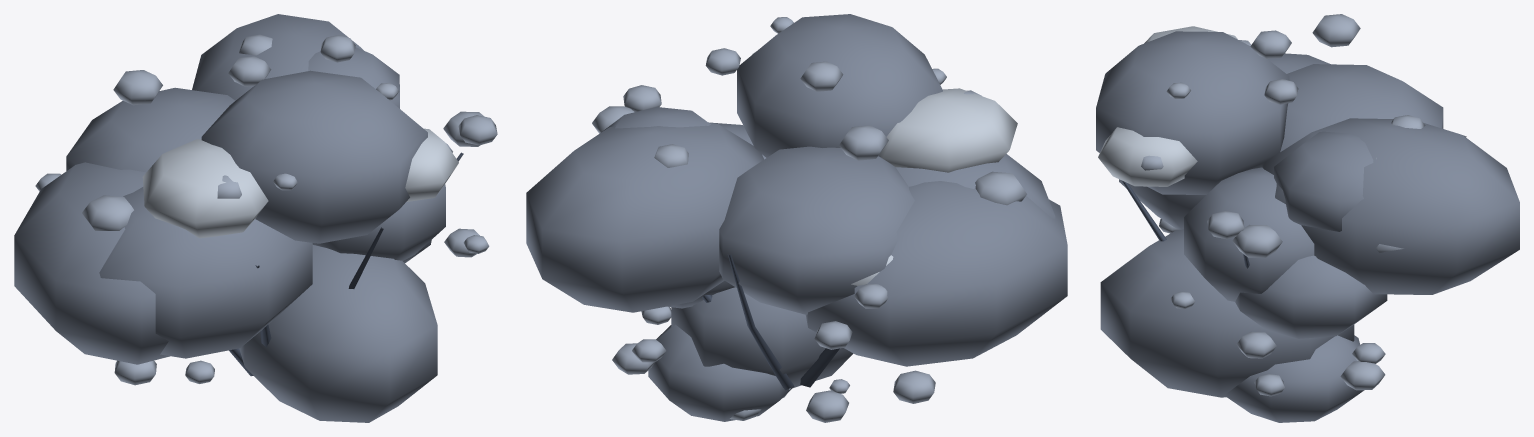
The model's file is 开花灌木-lite.glb.
The picture shows the model from 3 angles, left to right: view 1: azimuth 30°, elevation 25°; view 2: azimuth 150°, elevation 25°; view 3: azimuth 270°, elevation 25°; orthographic projection. The views are drawn at different scales.
Visible parts, largest first — view 1: garden-shrub-flowering-leaf, garden-shrub-flowering-light, garden-shrub-flowering-accent, garden-shrub-flowering-branch; view 2: garden-shrub-flowering-leaf, garden-shrub-flowering-accent, garden-shrub-flowering-light, garden-shrub-flowering-branch; view 3: garden-shrub-flowering-leaf, garden-shrub-flowering-accent, garden-shrub-flowering-light, garden-shrub-flowering-branch.
Boxes of the visible parts, box(x1,y1,x2,y2) form: garden-shrub-flowering-leaf: box(14, 14, 445, 422); garden-shrub-flowering-light: box(142, 128, 458, 238); garden-shrub-flowering-accent: box(35, 34, 497, 385); garden-shrub-flowering-branch: box(229, 152, 463, 376); garden-shrub-flowering-leaf: box(526, 14, 1067, 421); garden-shrub-flowering-accent: box(592, 17, 1026, 422); garden-shrub-flowering-light: box(752, 52, 1017, 285); garden-shrub-flowering-branch: box(702, 254, 839, 390); garden-shrub-flowering-leaf: box(1096, 31, 1519, 422); garden-shrub-flowering-accent: box(1141, 14, 1425, 396); garden-shrub-flowering-light: box(1098, 26, 1237, 186); garden-shrub-flowering-branch: box(1121, 135, 1466, 268).
Bounding box in the file's own units: 1.05 × 0.8 × 0.9.
